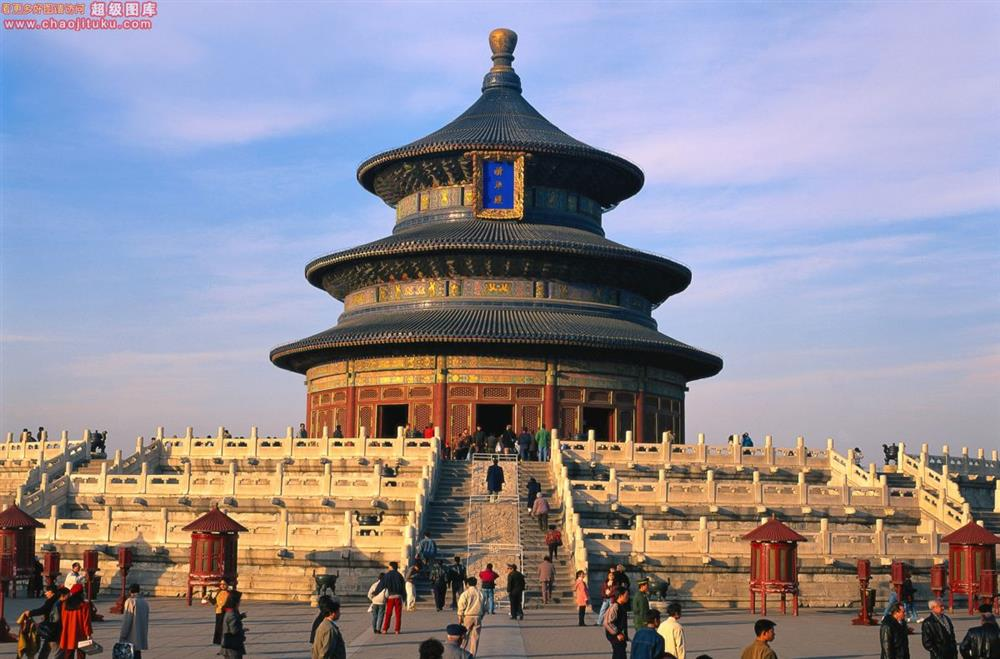Temple_of_Heaven: (258, 29, 729, 444)
